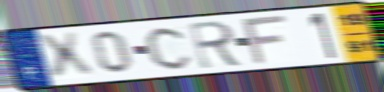0: (90, 29, 137, 76)
1: (308, 11, 339, 61)
C: (143, 24, 196, 71)
F: (240, 13, 290, 67)
R: (187, 19, 246, 71)
X: (34, 30, 98, 82)
